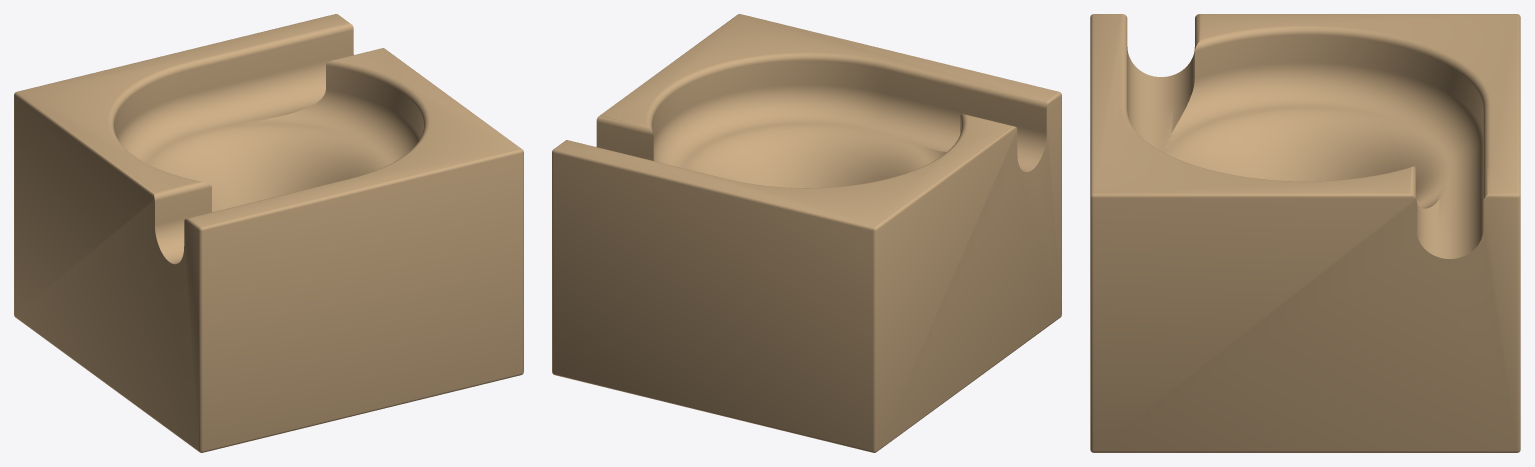
Rendered from blk_funnel_3x3_l2.glb.
The picture shows the model from 3 angles, left to right: view 1: azimuth 30°, elevation 25°; view 2: azimuth 150°, elevation 25°; view 3: azimuth 270°, elevation 25°; orthographic projection. The views are drawn at different scales.
Parts seen in each view (by area): view 1: blk_funnel_3x3_l2_lod0; view 2: blk_funnel_3x3_l2_lod0; view 3: blk_funnel_3x3_l2_lod0.
Part boxes in pixels (box(x1,y1,x2,y2)): blk_funnel_3x3_l2_lod0: box(14, 14, 523, 452); blk_funnel_3x3_l2_lod0: box(552, 14, 1061, 452); blk_funnel_3x3_l2_lod0: box(1090, 14, 1520, 452).
Size of what is drawn, in the model's own units: 0.179 by 0.119 by 0.179.
